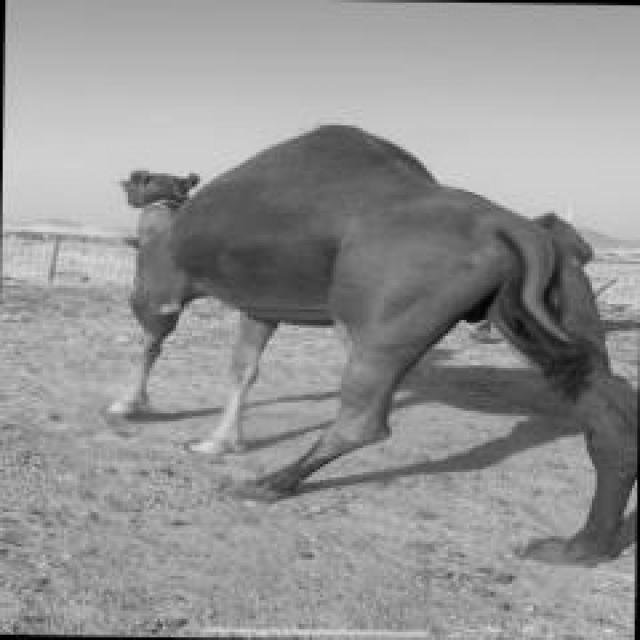Camel: (104, 120, 637, 565)
